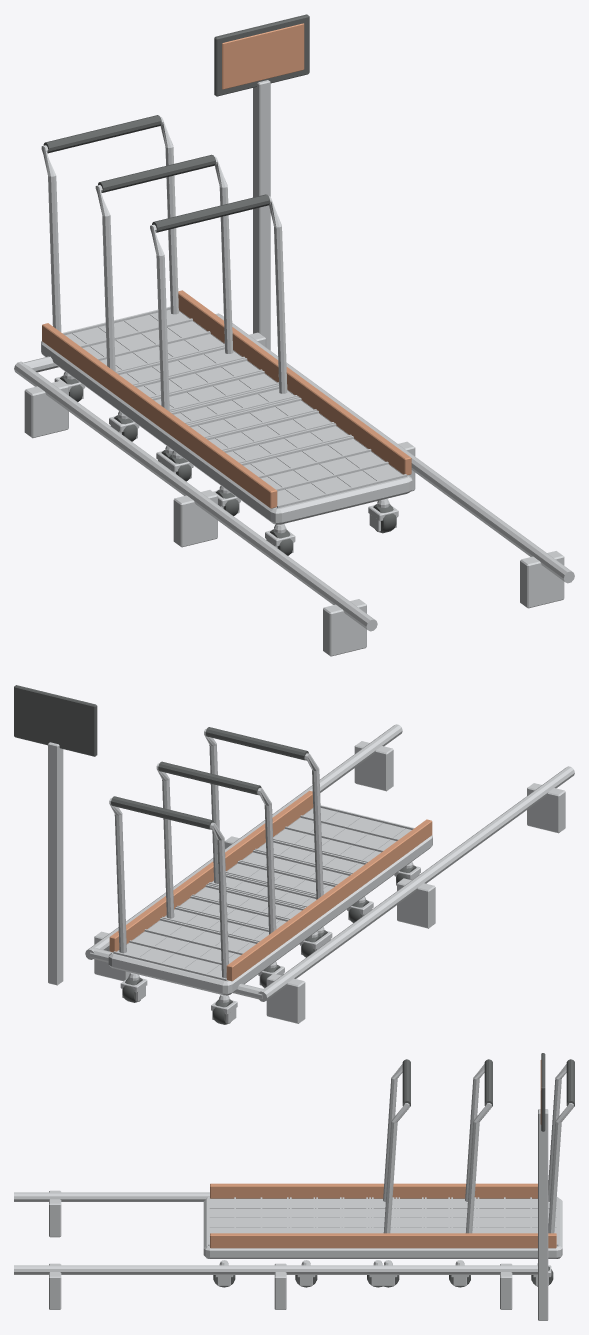
File: garden-centre-and-florist-trolley-bay-0e00a5a4__17777.glb
The picture shows the model from 3 angles, top to bottom: view 1: azimuth 30°, elevation 25°; view 2: azimuth 150°, elevation 25°; view 3: azimuth 270°, elevation 25°; orthographic projection. The views are drawn at different scales.
Parts seen in each view (by area): view 1: trolley-bay; view 2: trolley-bay; view 3: trolley-bay.
Boxes of the visible parts, left/top/right/bottom form: trolley-bay: left=14, top=14, right=574, bottom=656; trolley-bay: left=14, top=685, right=574, bottom=1024; trolley-bay: left=14, top=1053, right=574, bottom=1320.
Size of the model in its own units: 1.3 by 1.34 by 2.73.
